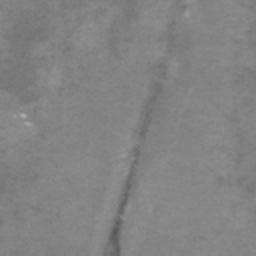Finishing roll printing: (106, 22, 180, 256)
